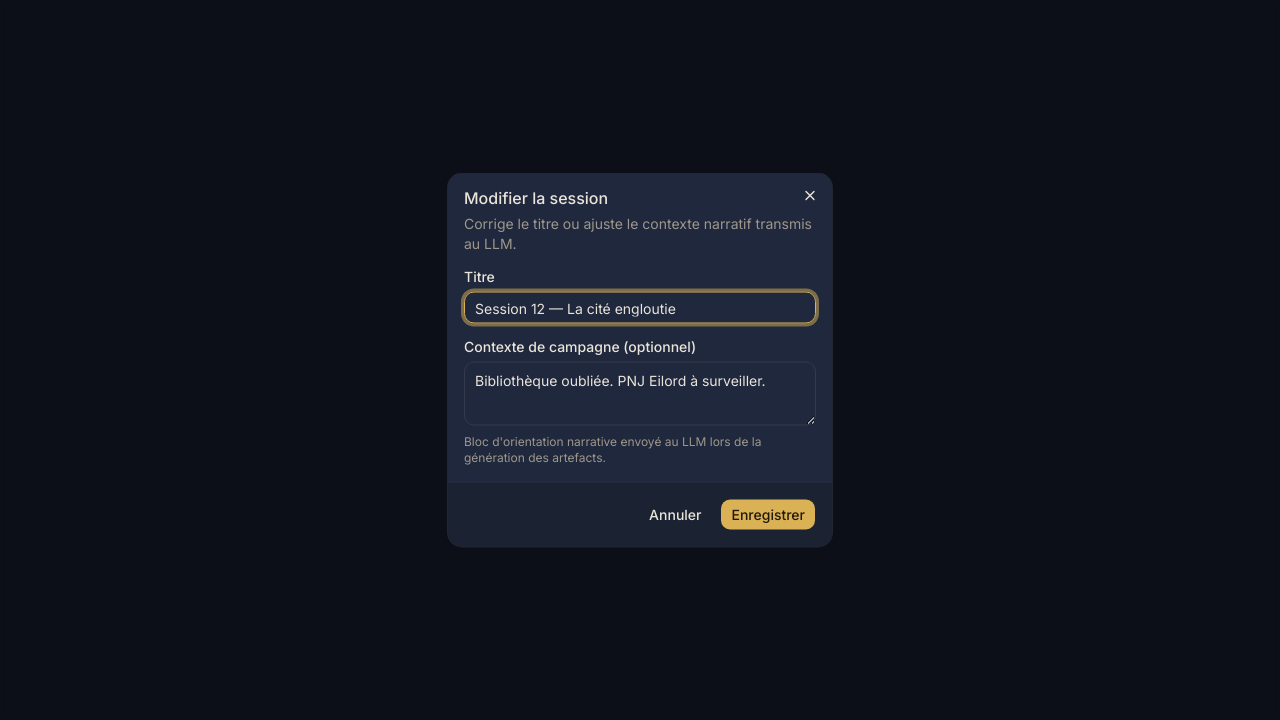
Test: <SessionEditDialog> › surfaces a generic error on 422
This screenshot has width=1280, height=720.
Click the button "Enregistrer".
click(768, 514)  # box [720, 498, 816, 530]
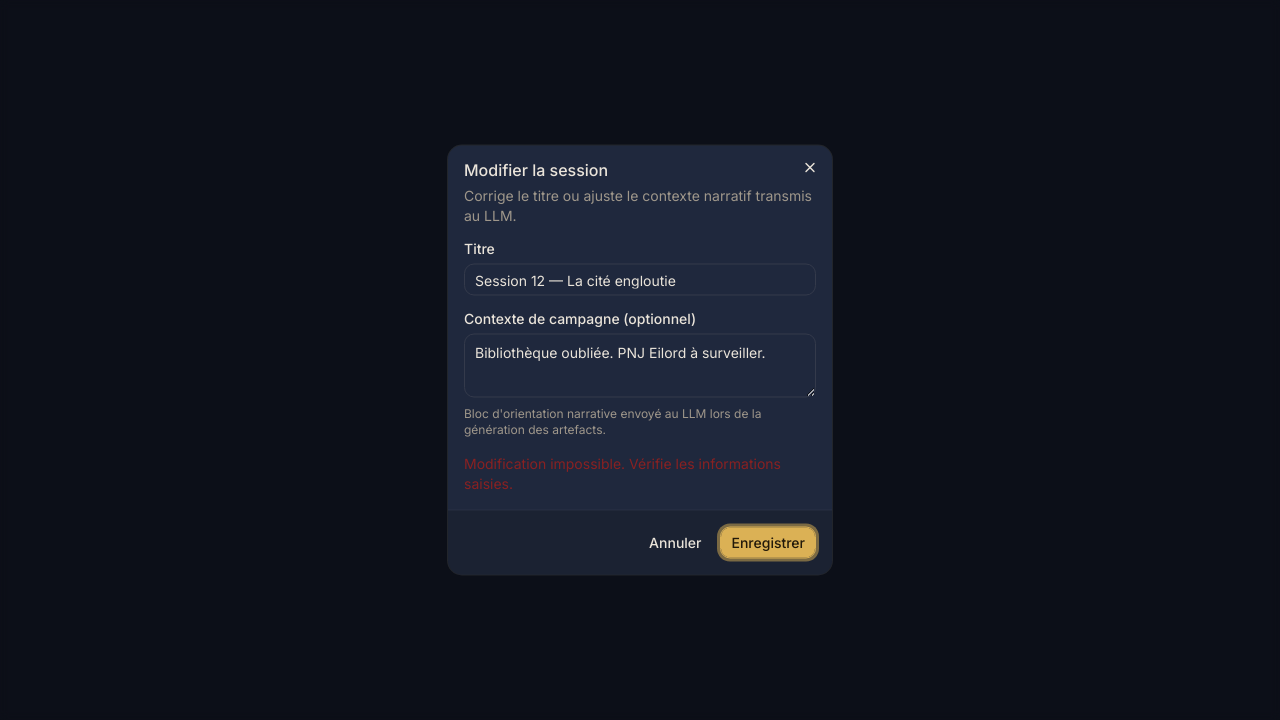
Expected: the text "Modification impossible. Vérifie les informations saisies." is shown, [464, 454, 816, 494]
